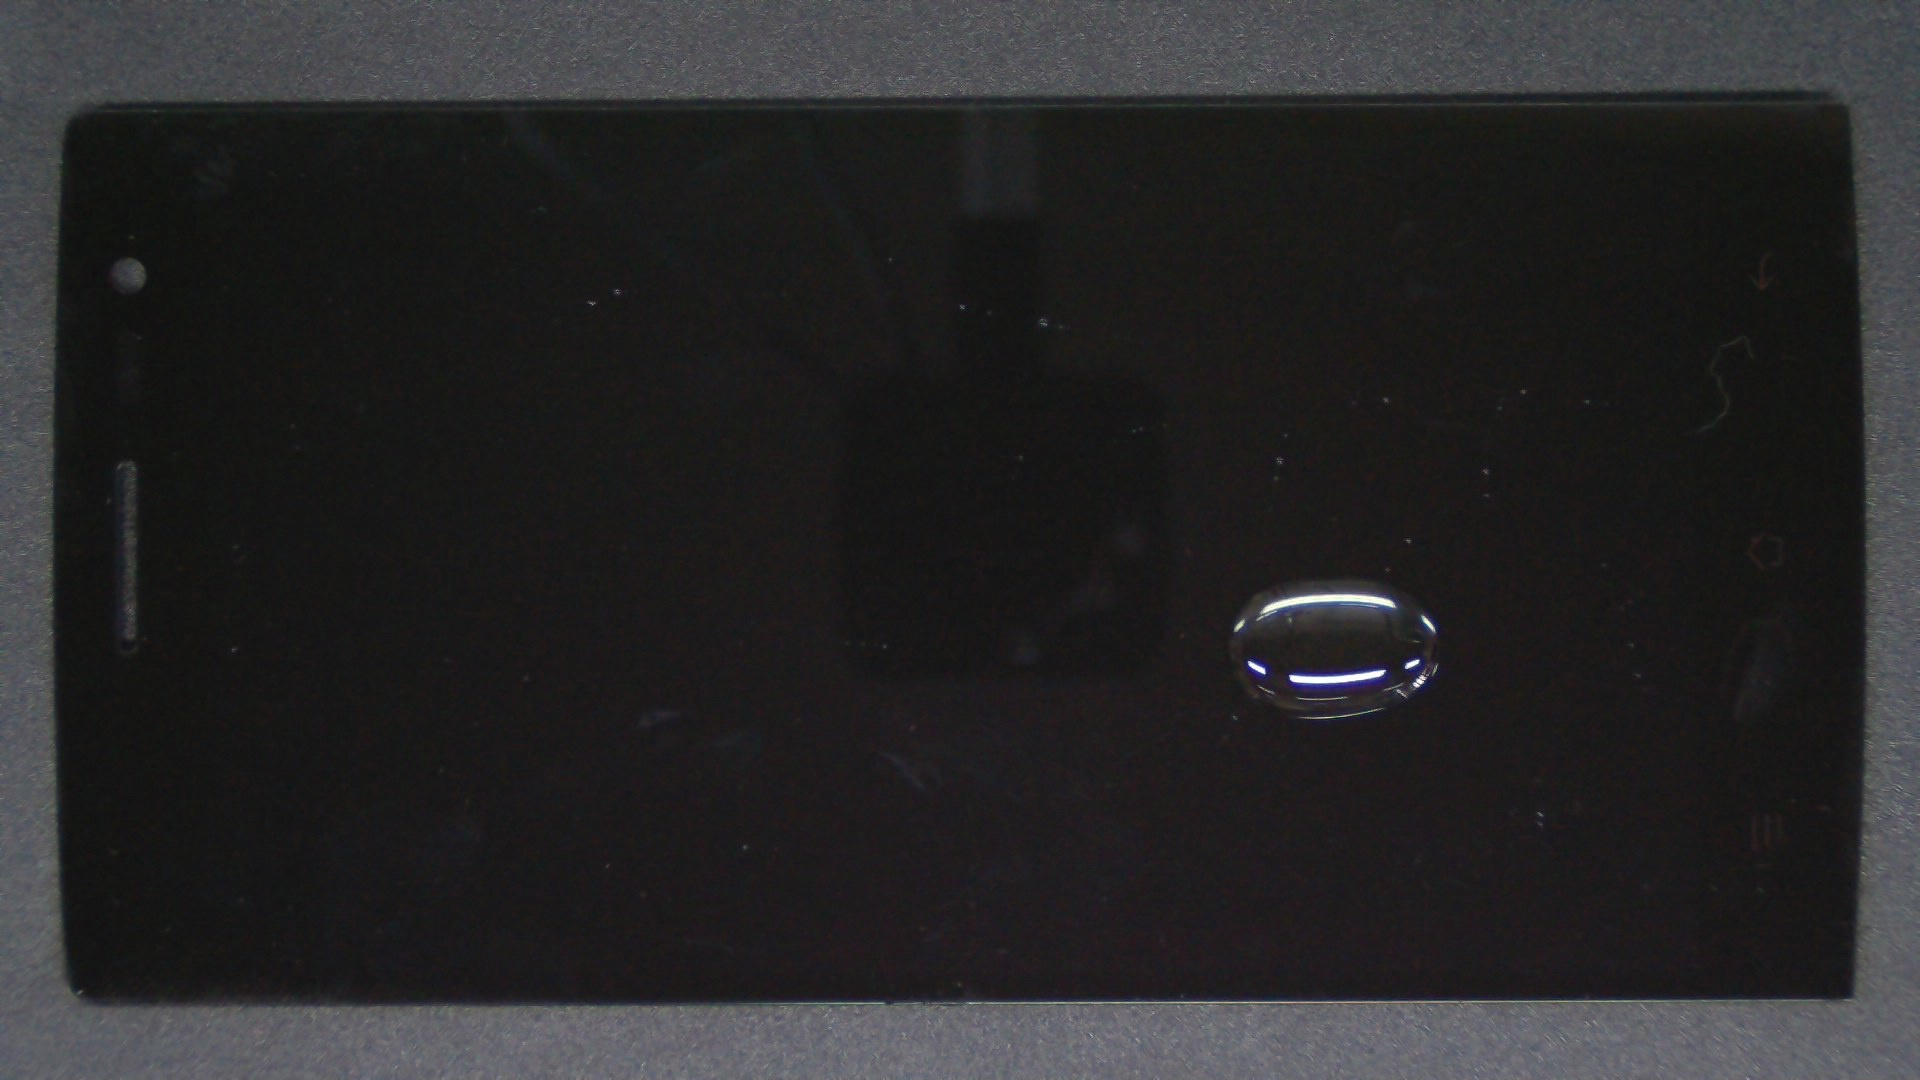oil: (646, 290, 1920, 870)
